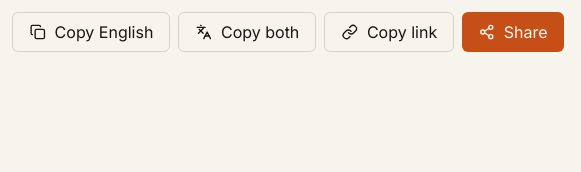
Test: quote sharing controls › uses URL-copy fallback when native share is unavailable
Click the button "Share": point(513, 32) 462,12 -> 564,52
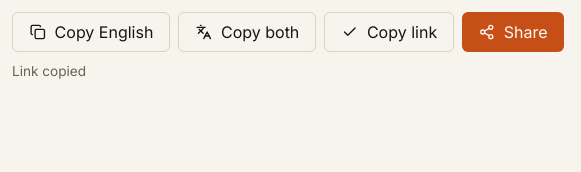
Now the message reads "Link copied", box 12,63 -> 86,79
